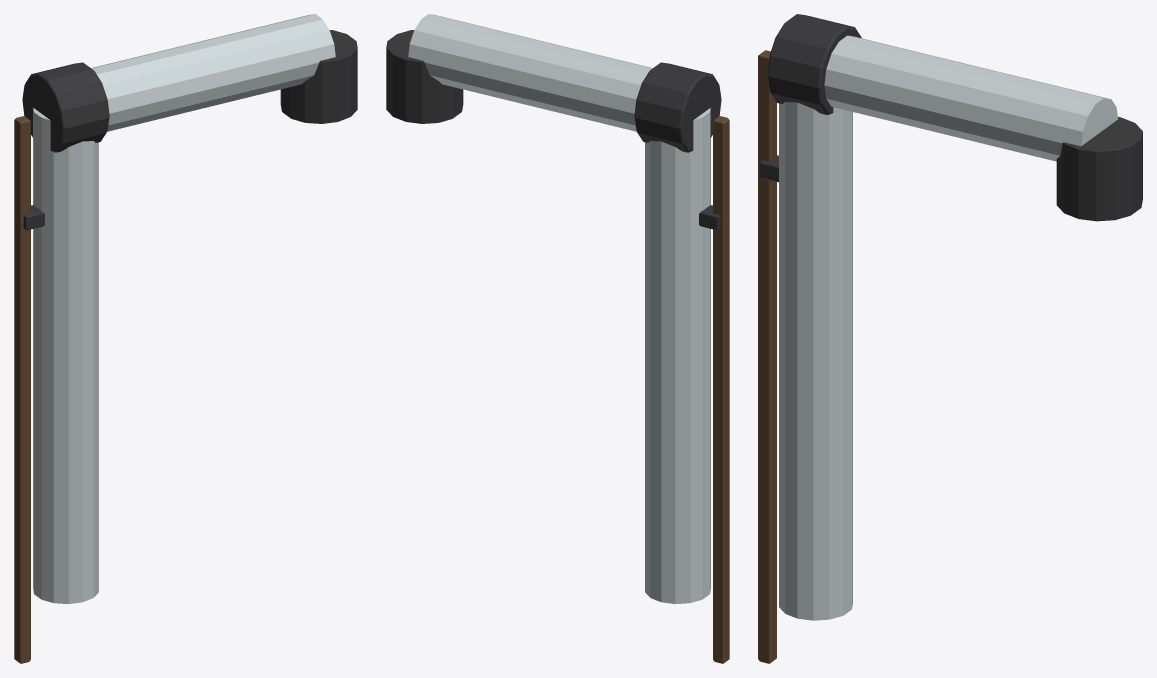
File: PipeRiser.glb
The picture shows the model from 3 angles, left to right: view 1: azimuth 30°, elevation 25°; view 2: azimuth 150°, elevation 25°; view 3: azimuth 330°, elevation 25°; orthographic projection. The views are drawn at different scales.
Parts seen in each view (by area): view 1: PipeRiser.001; view 2: PipeRiser.001; view 3: PipeRiser.001.
Part boxes in pixels (bbox=[...]): PipeRiser.001: bbox=[14, 14, 357, 663]; PipeRiser.001: bbox=[386, 14, 729, 663]; PipeRiser.001: bbox=[758, 14, 1142, 663].
Bounding box in the file's own units: 1.39 × 2.3 × 0.3.
